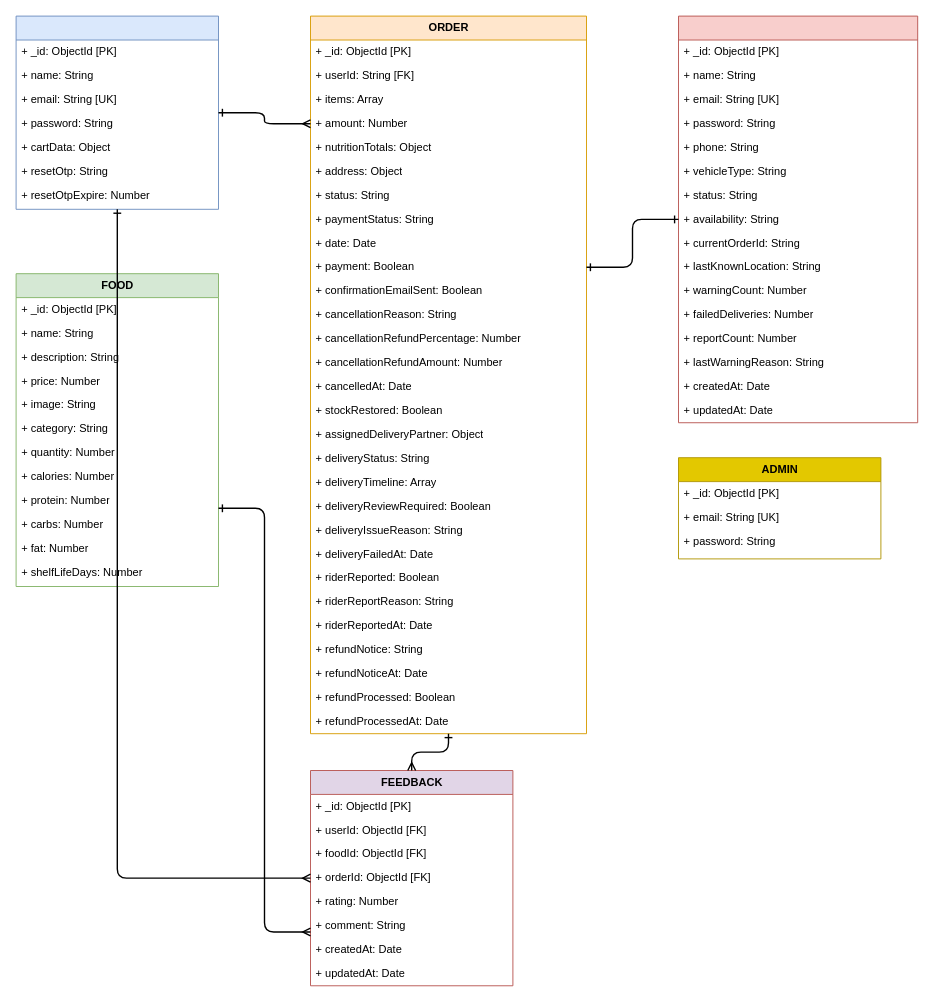
The diagram is 934 pixels wide and 1002 high, and some of its shapes have lost their labels. Here are the shapes that lost their labels. From the top down, the box of each, then its label:
(15, 15, 218, 209): USER
(678, 15, 918, 423): DELIVERY_PARTNER
